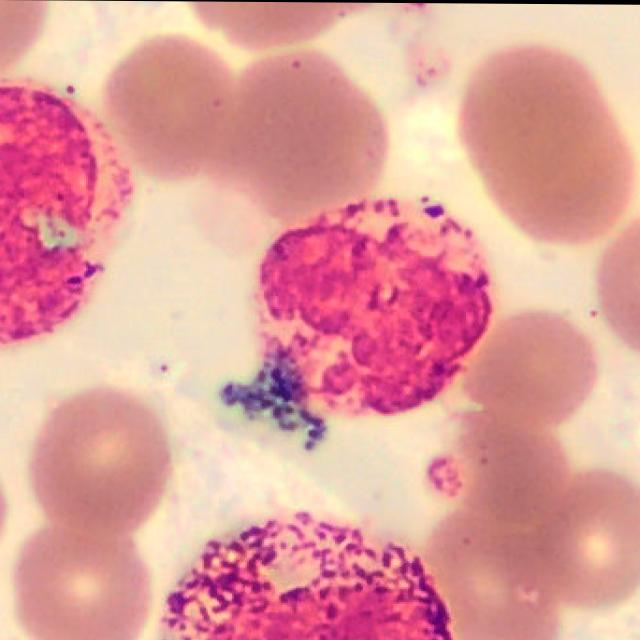Restos celulares: (258, 198, 494, 417)
